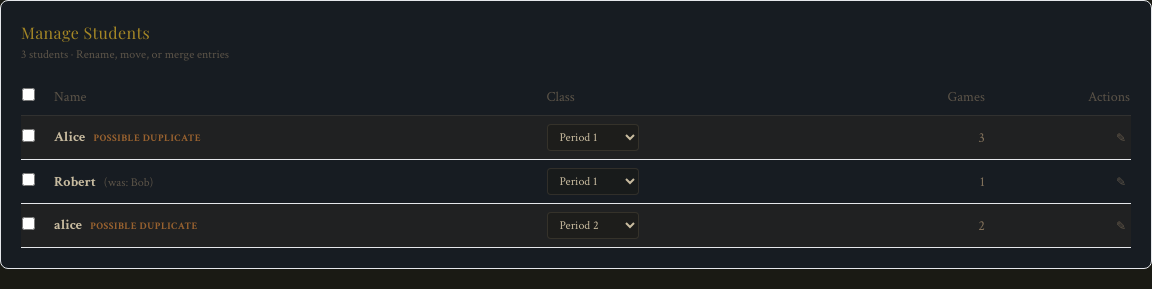
Scenario: ManageStudents › clicking pencil icon opens inline rename
Click the 1st button titled "Rename" at (1121, 138), box [1112,130,1130,146]
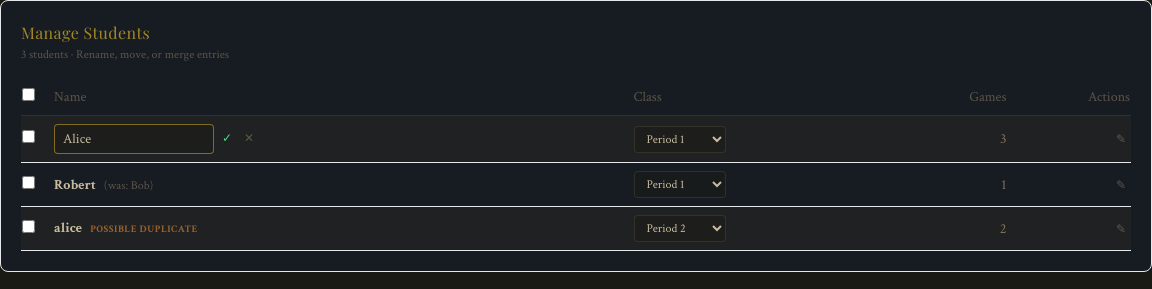
Expected: the field showing "Alice" is shown, [54,124,214,154]
